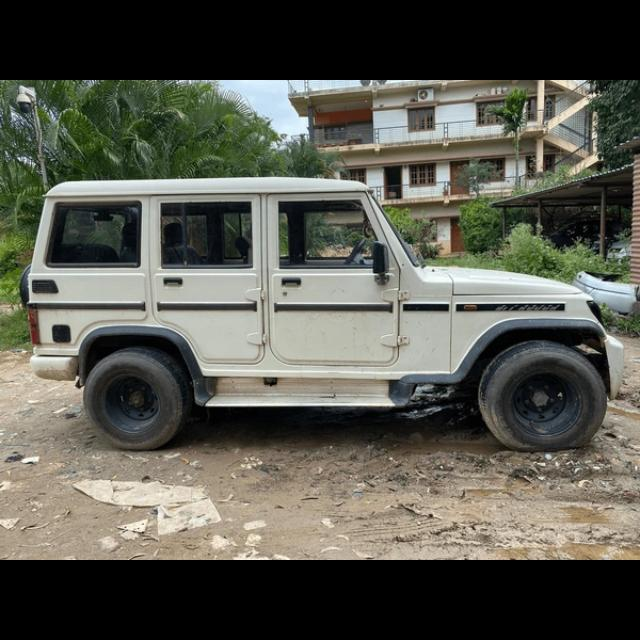vehicles: (28, 180, 622, 452)
